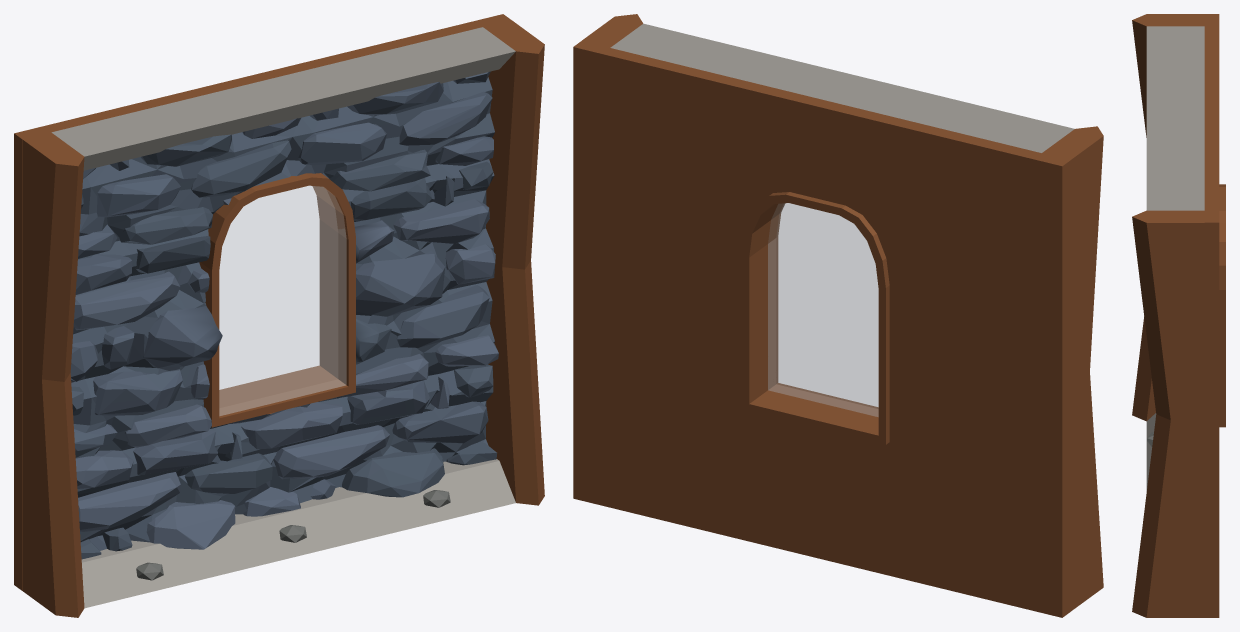
Rendered from Wall_and_widnow.glb.
3 views of the same model, side by side, from view 1: azimuth 30°, elevation 25°; view 2: azimuth 150°, elevation 25°; view 3: azimuth 270°, elevation 25° (orthographic). The views are drawn at different scales.
Parts seen in each view (by area): view 1: Cube.065; view 2: Cube.065; view 3: Cube.065.
Boxes of the visible parts, bbox=[...] form: Cube.065: bbox=[14, 14, 544, 617]; Cube.065: bbox=[573, 14, 1103, 617]; Cube.065: bbox=[1132, 14, 1225, 617].
Size of the model in its own units: 6.8 by 6 by 1.29.
